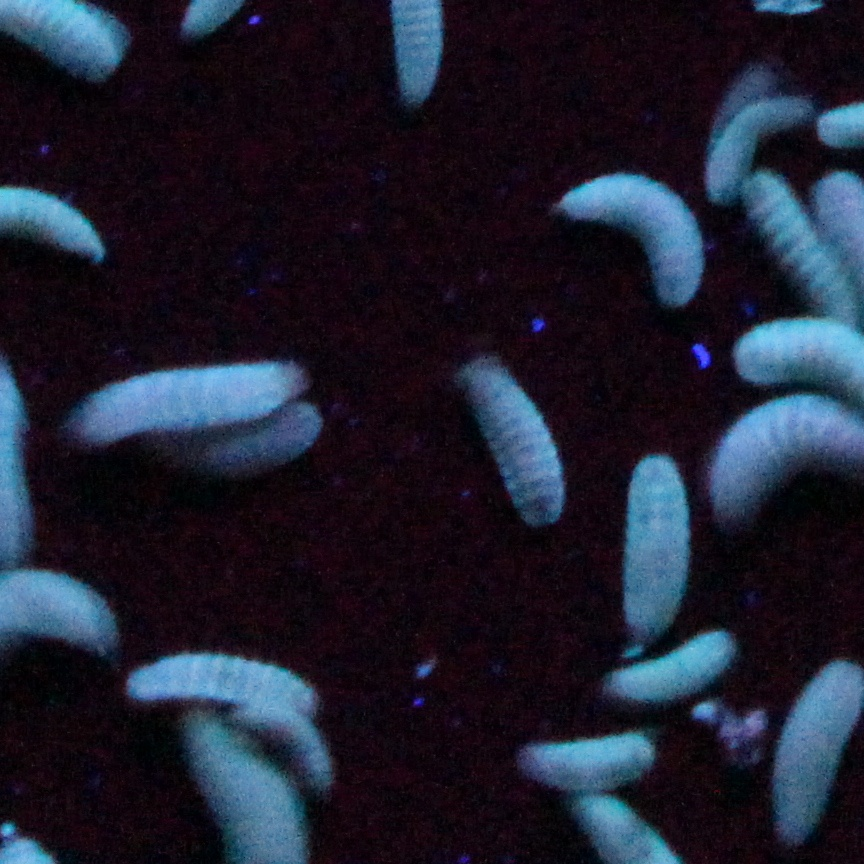larve: (464, 362, 568, 536), (566, 180, 703, 307), (76, 366, 303, 440), (756, 174, 864, 329), (615, 448, 688, 642), (129, 648, 325, 707), (605, 638, 745, 713), (711, 89, 799, 201), (527, 729, 660, 787), (243, 707, 337, 789)
